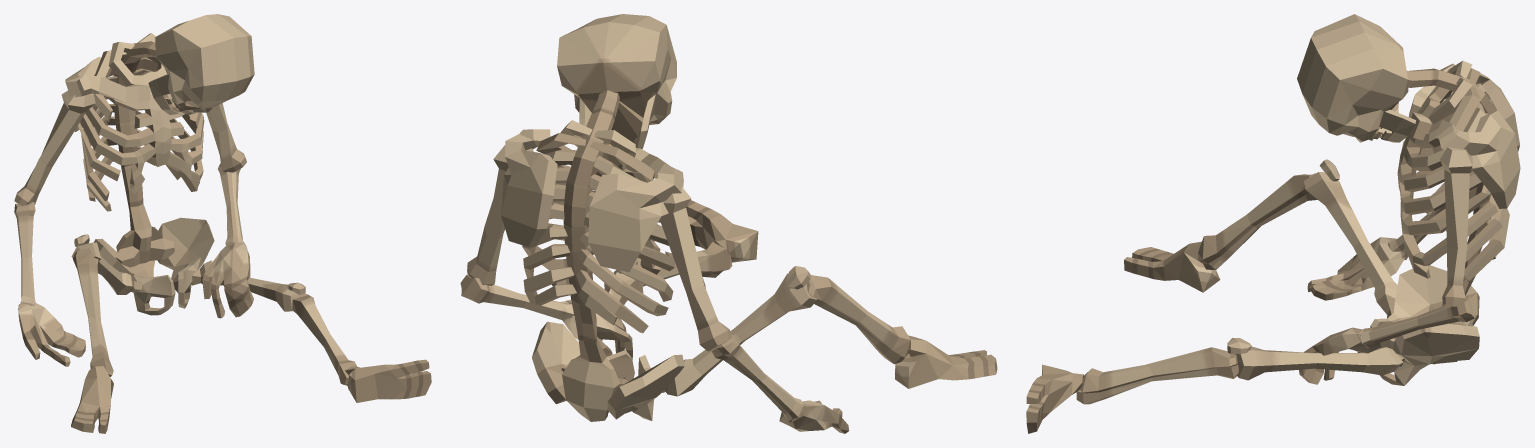
Rendered from SM_Prop_Skeleton_04.fbx.
The picture shows the model from 3 angles, left to right: view 1: azimuth 30°, elevation 25°; view 2: azimuth 150°, elevation 25°; view 3: azimuth 270°, elevation 25°; orthographic projection. The views are drawn at different scales.
Parts seen in each view (by area): view 1: SM_Prop_Skeleton_04; view 2: SM_Prop_Skeleton_04; view 3: SM_Prop_Skeleton_04.
Part boxes in pixels (x1=…): SM_Prop_Skeleton_04: x1=14, y1=14, x2=431, y2=433; SM_Prop_Skeleton_04: x1=460, y1=14, x2=997, y2=433; SM_Prop_Skeleton_04: x1=1026, y1=14, x2=1520, y2=433.
Bounding box in the file's own units: 93.56 × 86.65 × 109.
